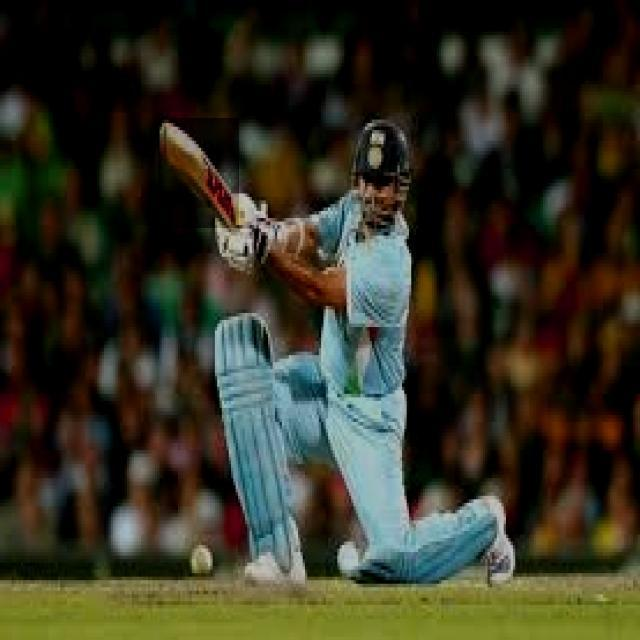bat: (154, 118, 243, 227)
toe: (156, 118, 171, 157)
